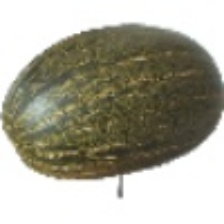honeydew: (30, 46, 224, 191)
